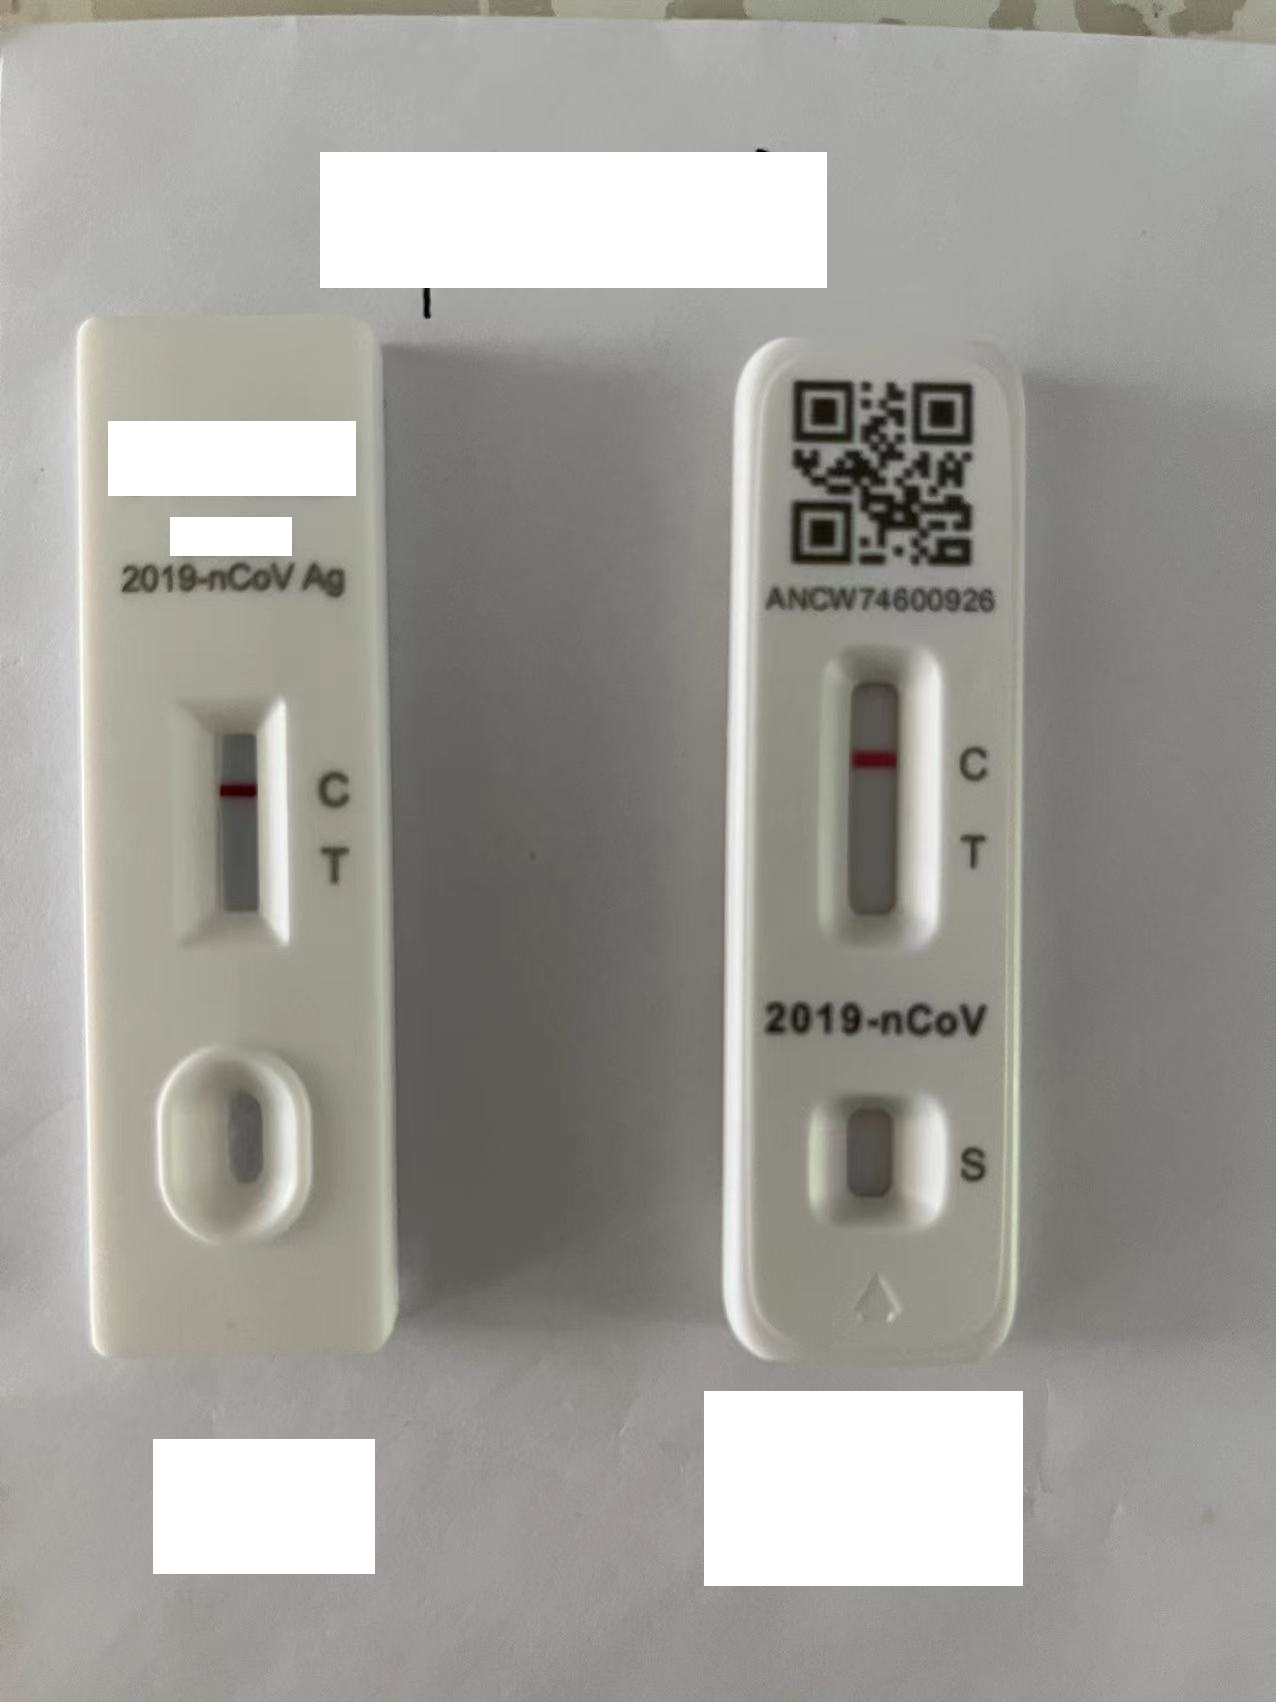negative: (818, 637, 936, 954), (181, 692, 280, 950)
